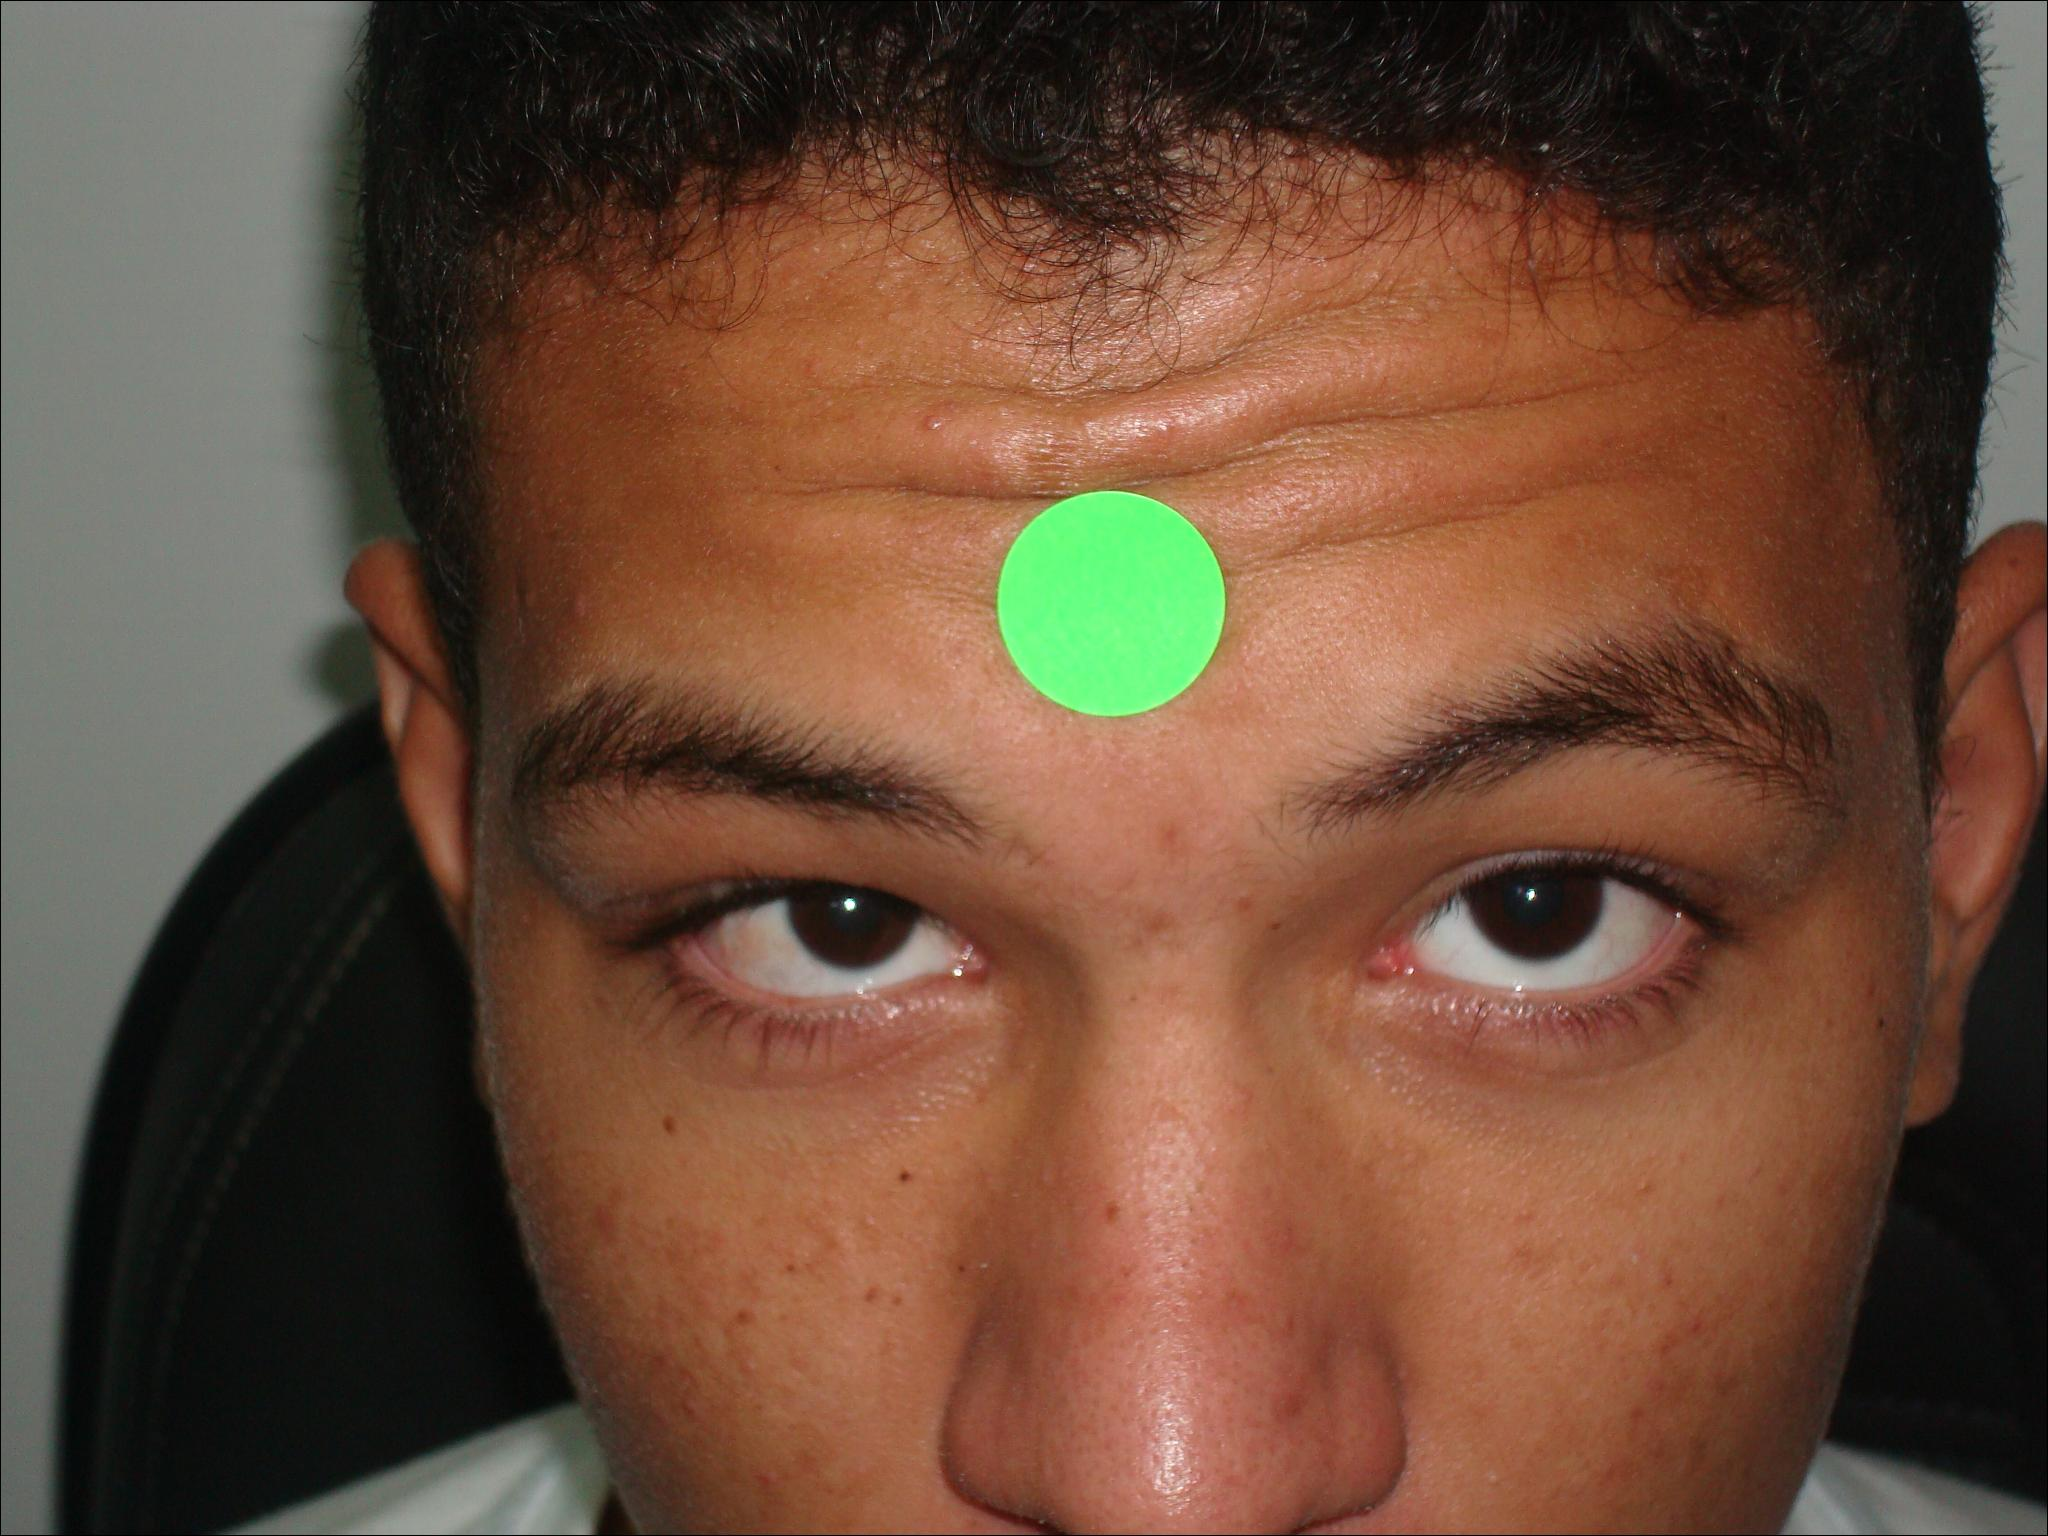flash: (1521, 883, 1542, 907), (840, 892, 860, 916)
limbo: (1459, 841, 1605, 958), (787, 855, 918, 970)
